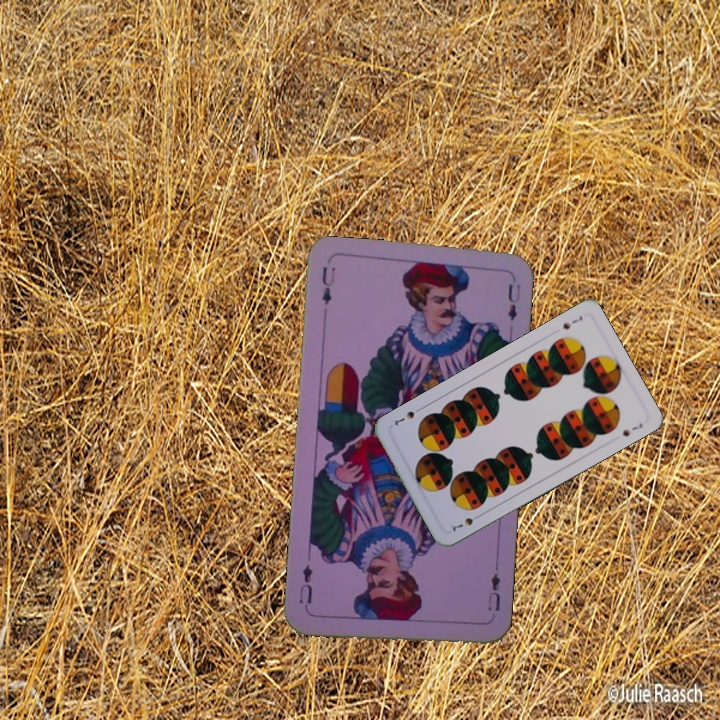EU: (318, 263, 338, 308), (484, 568, 503, 614)
S7: (446, 510, 484, 534), (559, 311, 585, 332)
